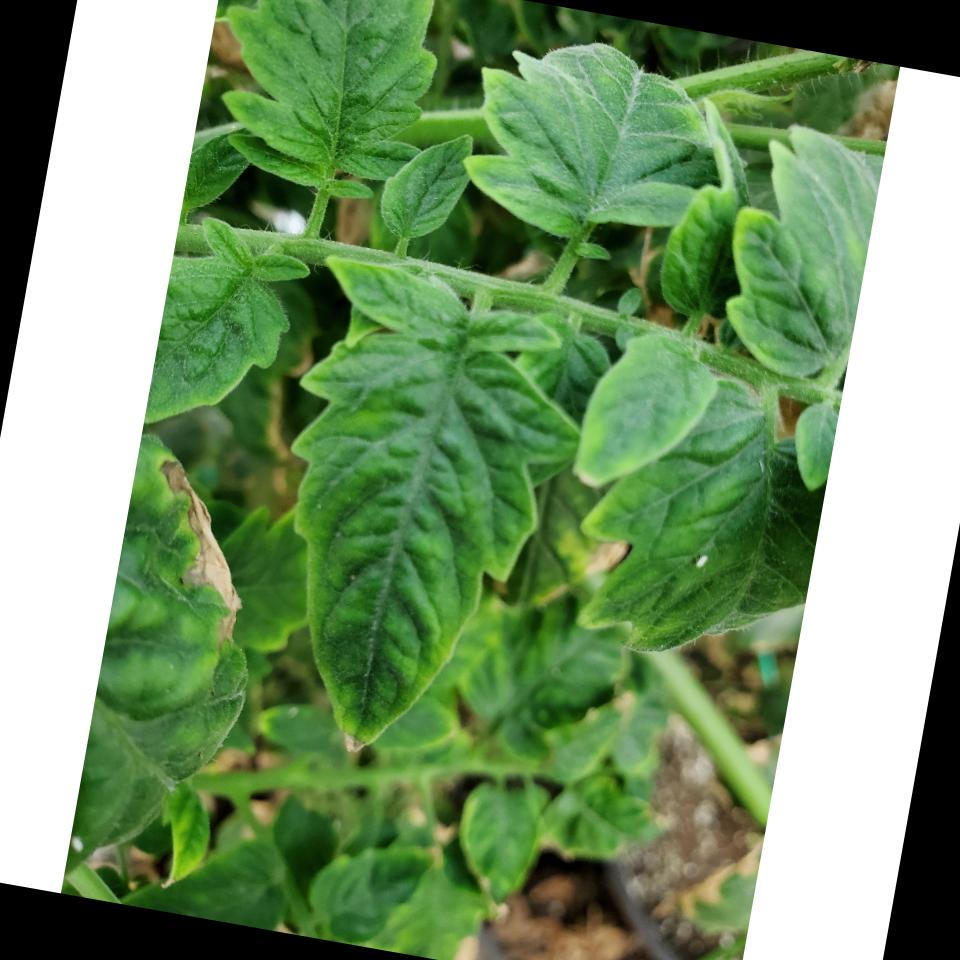tomato_bacterial_blight: (110, 440, 300, 702)
